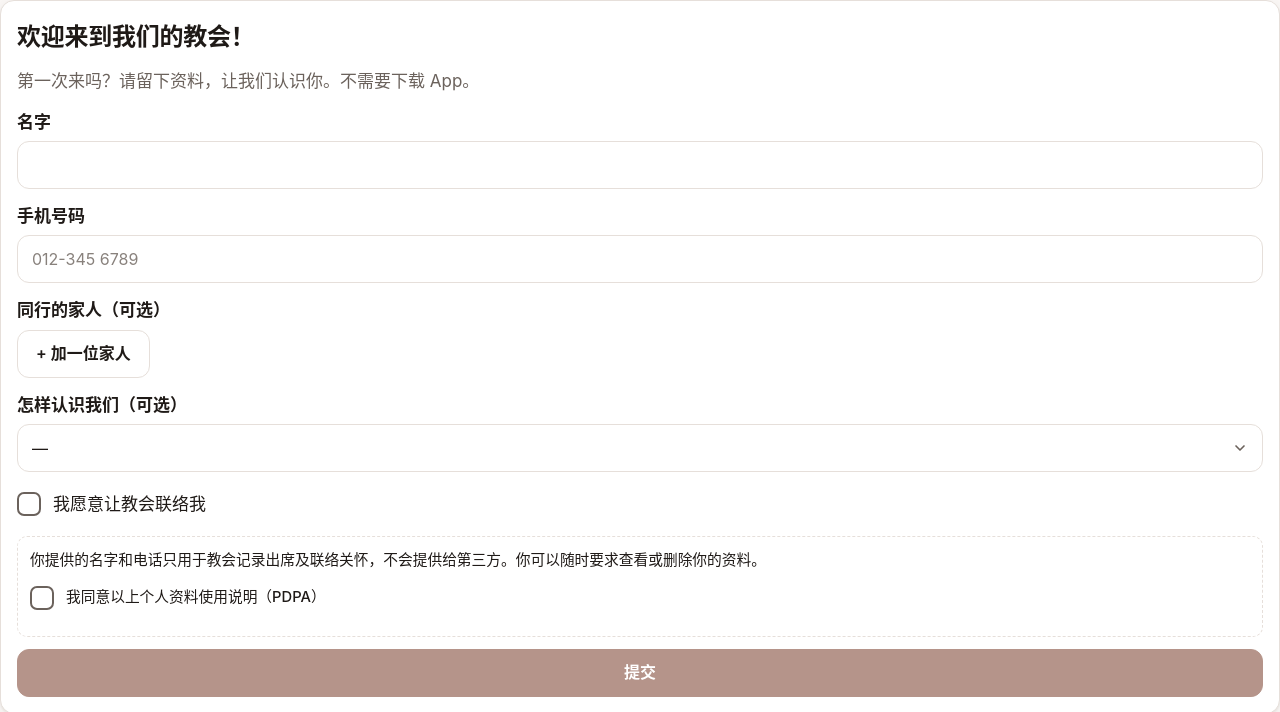
Scenario: WelcomePage › shows an invalid phone message
This screenshot has width=1280, height=712.
In the field labelled "名字": (640, 165) [17,141,1263,189], type "Ah Kow"
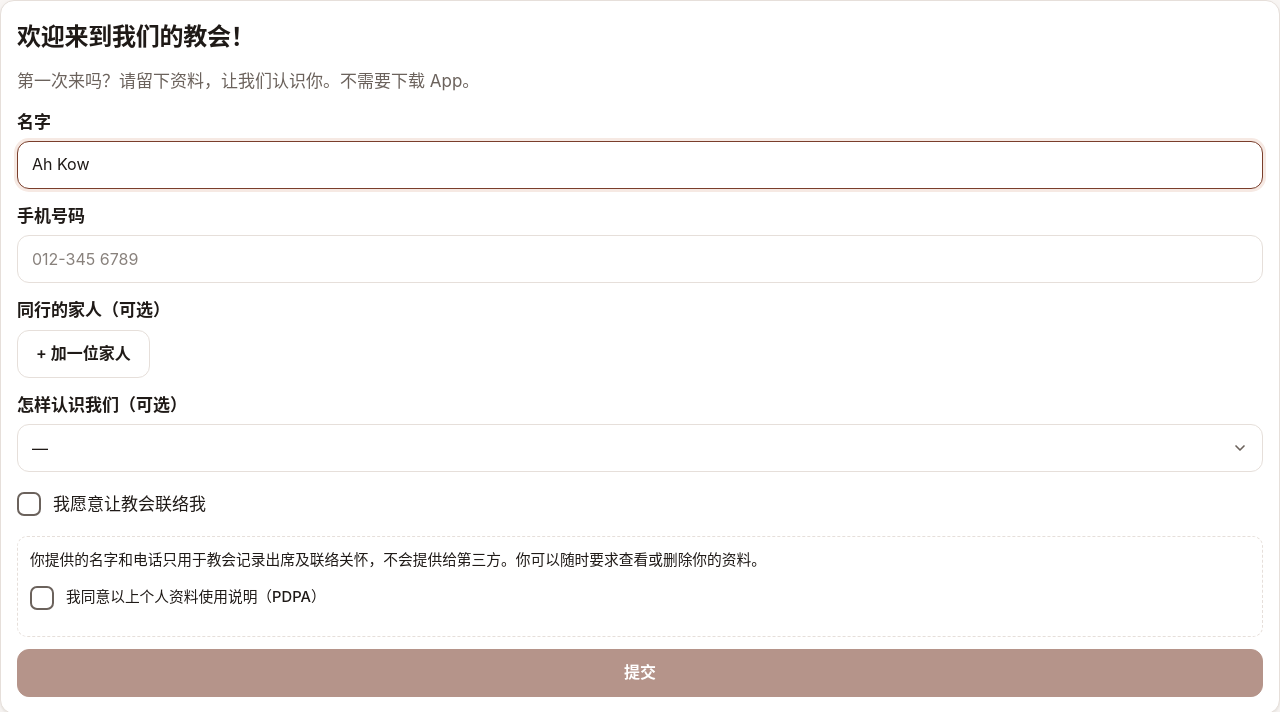
In the field labelled "手机号码": (640, 259) [17,235,1263,283], type "12345"
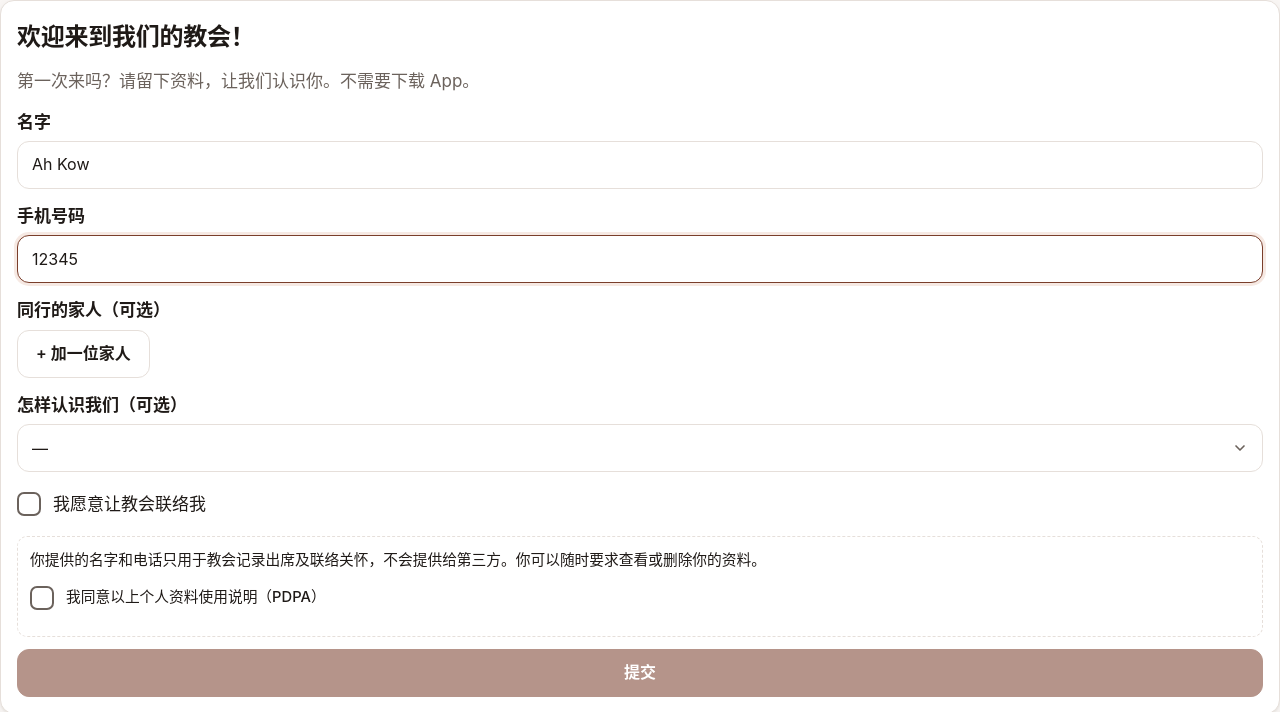
Click the checkbox labelled "我同意以上个人资料使用说明（PDPA）": (42, 598) [30,586,54,610]
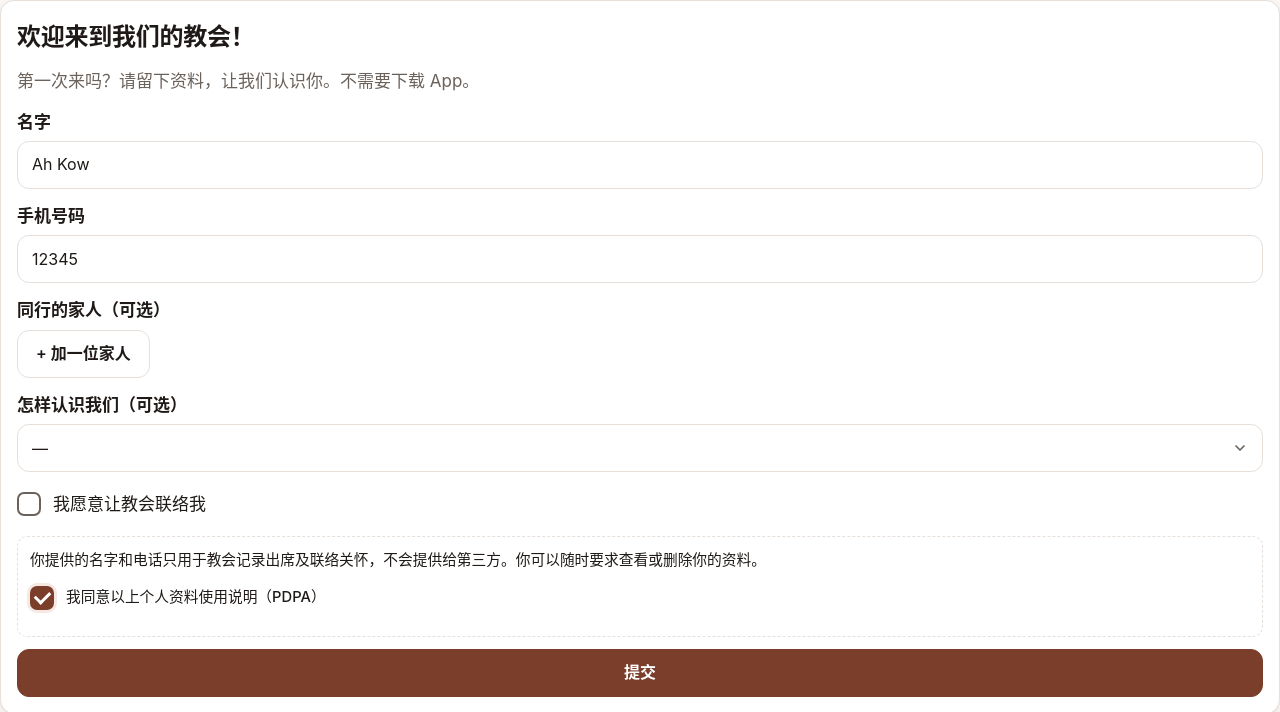
Click the button "提交": (640, 673) [17,649,1263,697]
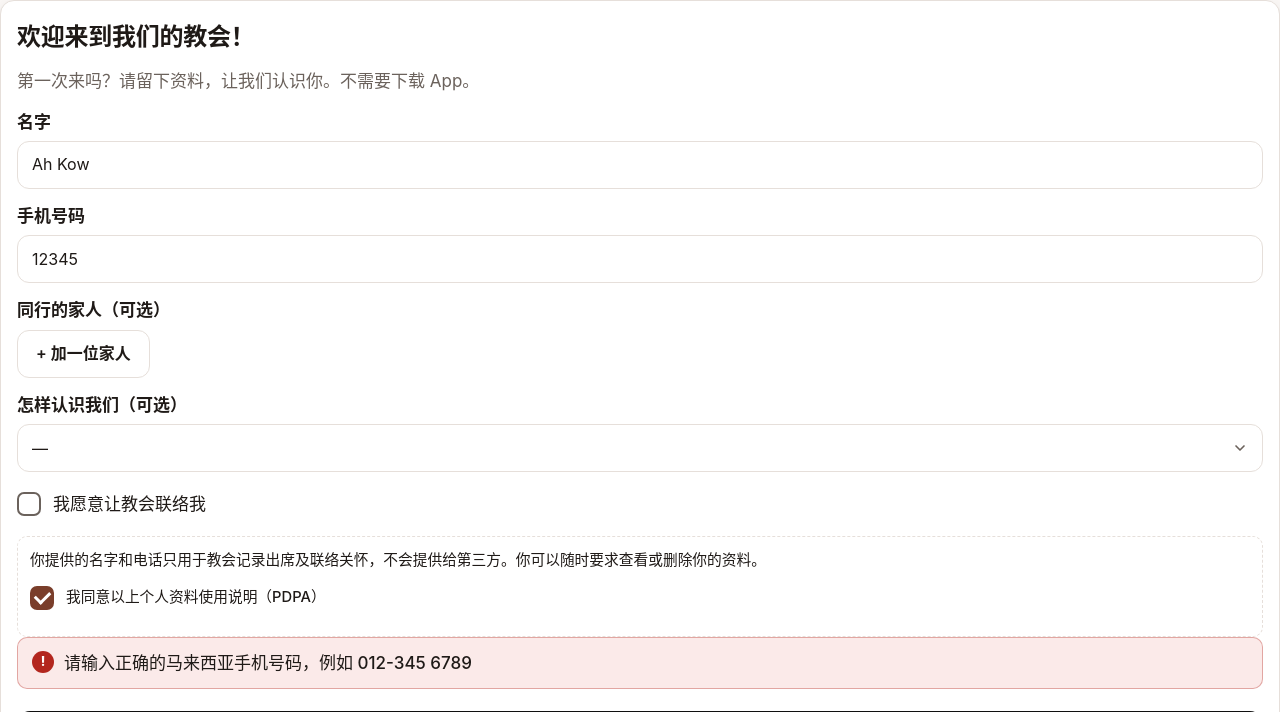
expect the text "请输入正确的马来西亚手机号码，例如 012-345 6789" is shown: met, box [17,637,1263,689]
